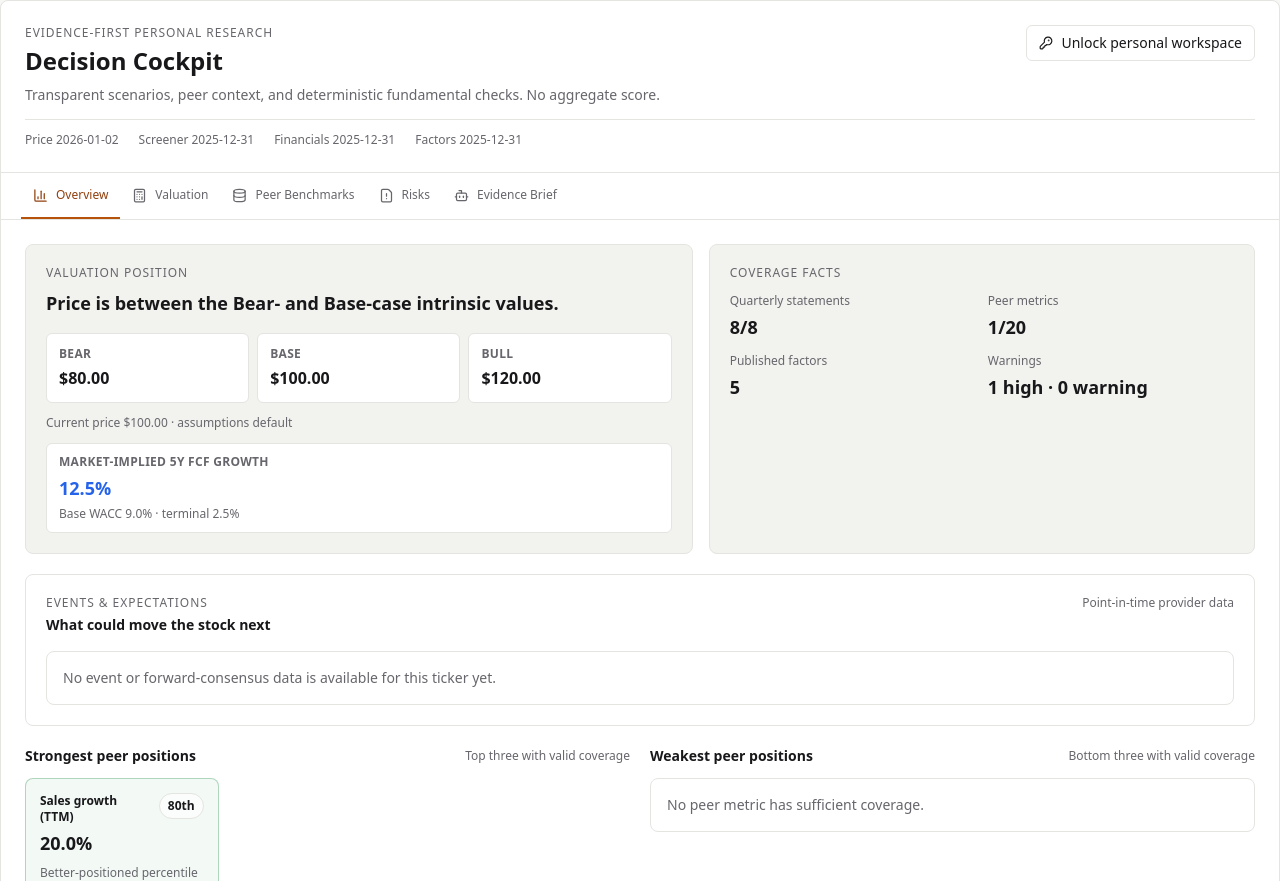
Test: DecisionCockpit › shows the market-implied FCF growth hurdle and its fixed assumptions
Expected: the text "Market-implied 5Y FCF growth" is shown, [59,453,269,470]
Click the button "Valuation". click: (170, 196)
box: [120,173,220,219]
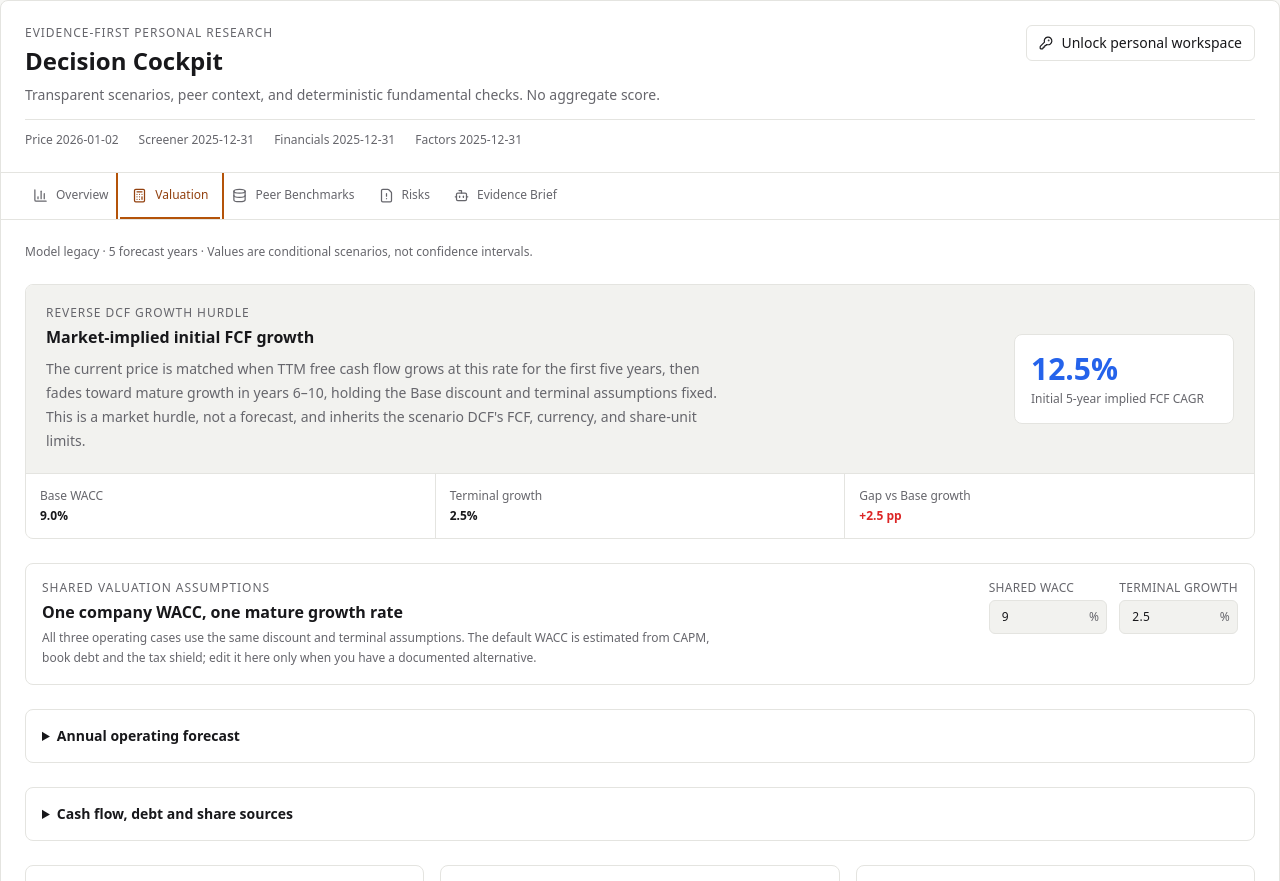
Now the text "Reverse DCF growth hurdle" is shown, box [46,304,250,321]
Now the text "+2.5 pp" is shown, box [859,507,902,524]
Now the text "market hurdle, not a forecast" is shown, box [46,359,717,450]
